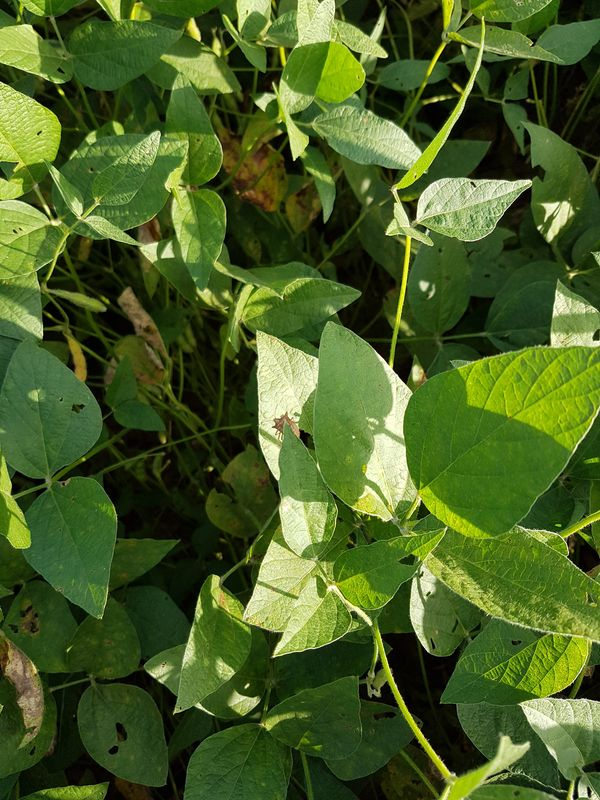Euschistus_heros_adulto: (261, 405, 307, 451)
